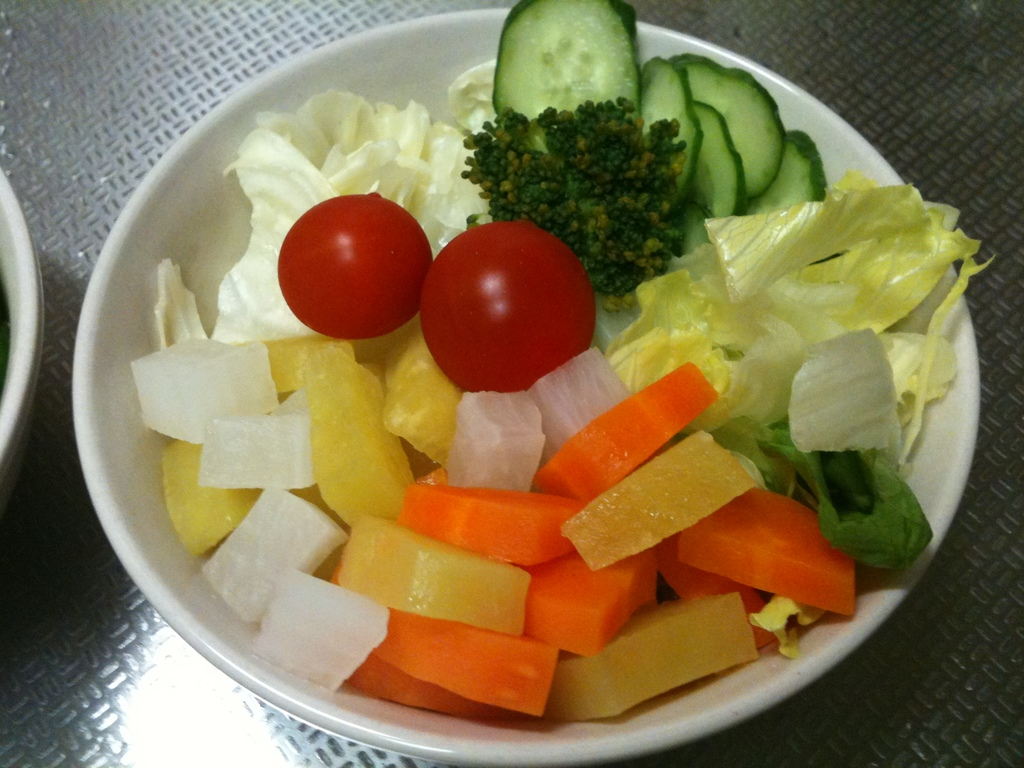Tomato: (418, 218, 596, 389), (273, 189, 433, 339)
